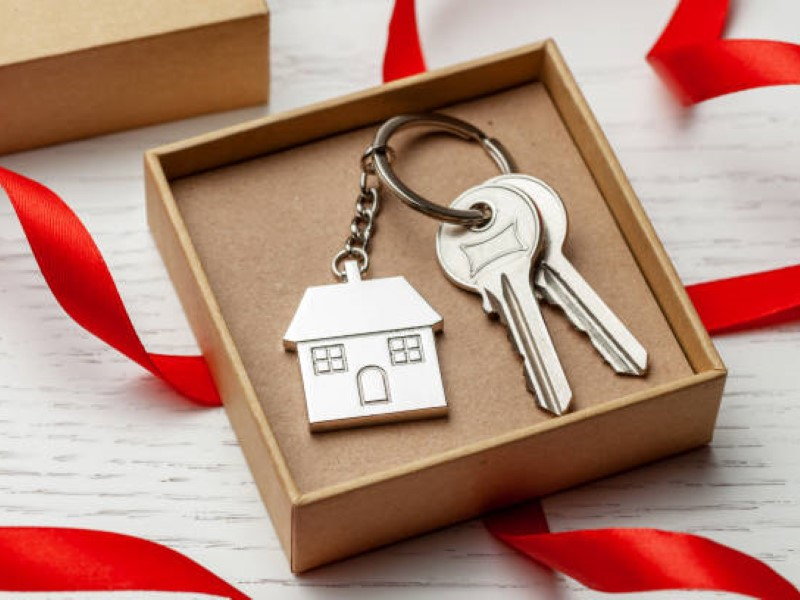key: (431, 169, 655, 420)
